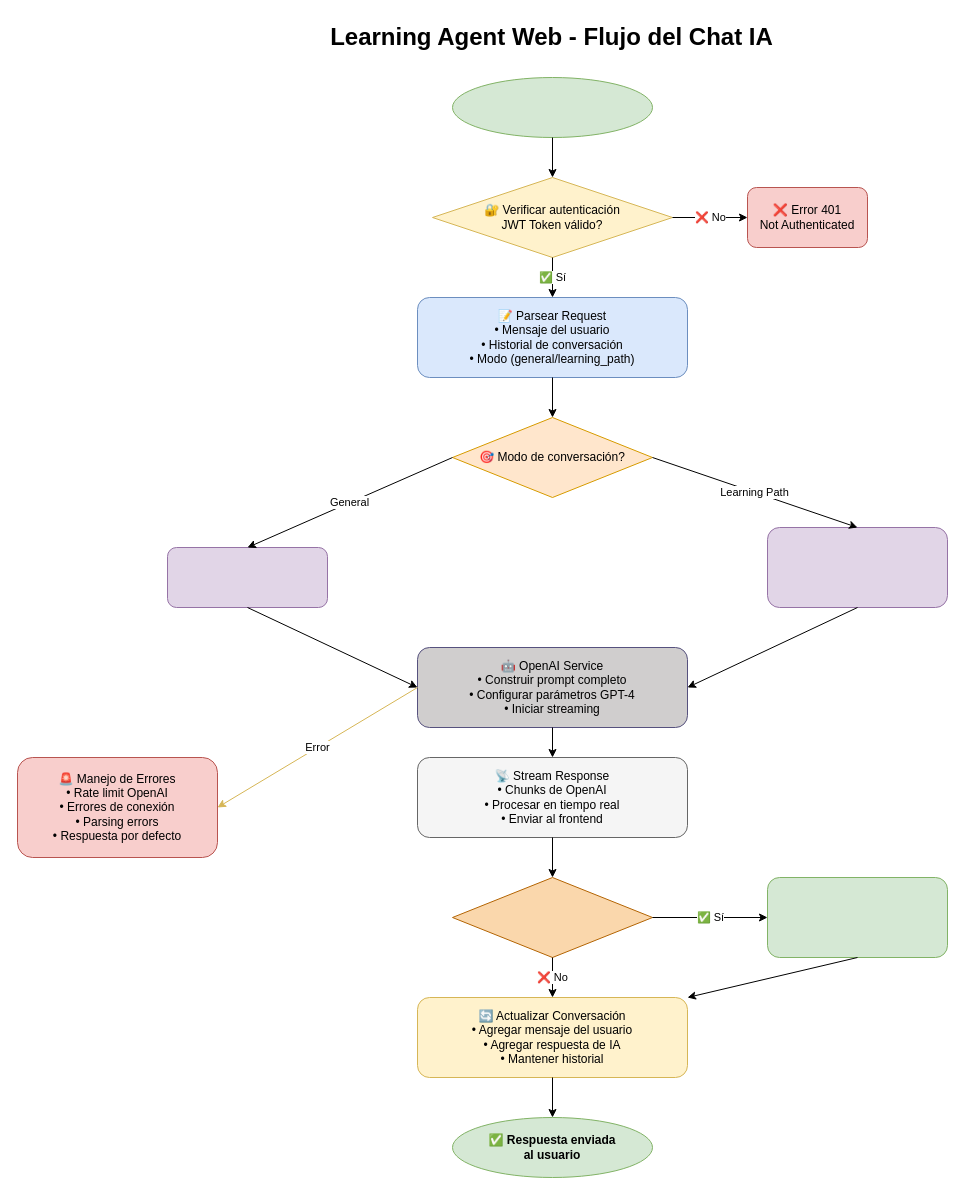
Some shapes in this 965 by 1195 pixel diagram are drawn without their labels. Each missing label, with the box of its shape:
🎓 Modo Learning Path Prompt especializado en rutas de aprendizaje: (766, 526, 948, 608)
💬 Modo General Prompt básico de IA: (166, 546, 328, 608)
💾 Guardar Ruta • Parsear JSON • Crear registro en BD • Asociar con usuario: (766, 876, 948, 958)
🔍 Detectar Ruta Generada? JSON en la respuesta?: (452, 876, 652, 958)
🚀 Usuario envía mensaje: (452, 76, 652, 138)
